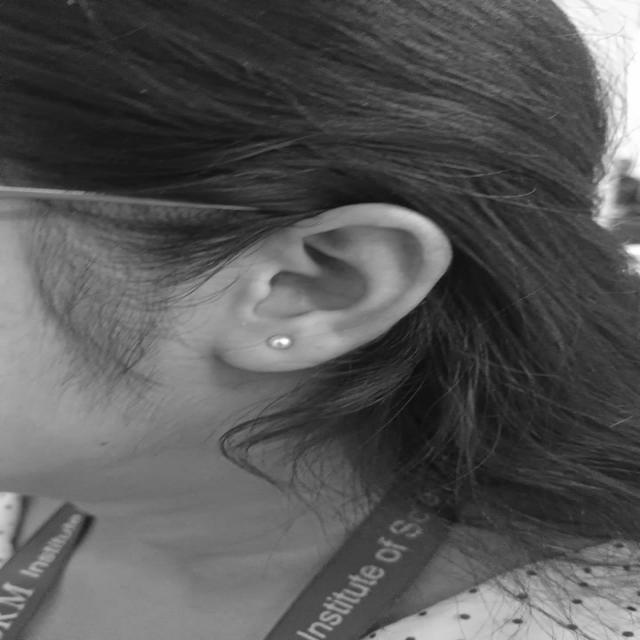ear: (214, 204, 451, 372)
